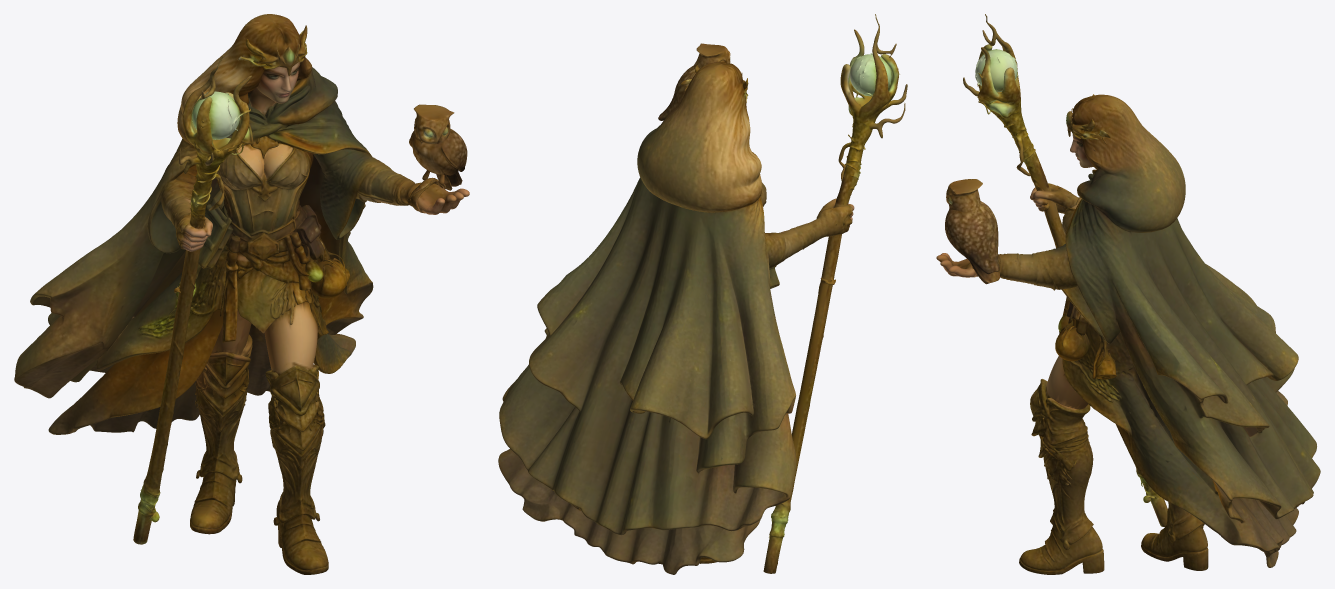
File: druid_full_female_01.glb
3 views of the same model, side by side, from view 1: azimuth 30°, elevation 25°; view 2: azimuth 150°, elevation 25°; view 3: azimuth 270°, elevation 25° (orthographic). The views are drawn at different scales.
Visible parts, largest first — view 1: material; view 2: material; view 3: material.
Boxes of the visible parts, x1,y1,x2,y2 form: material: [14, 14, 469, 574]; material: [498, 14, 907, 574]; material: [936, 14, 1320, 574].
Bounding box in the file's own units: 0.6352 × 1 × 0.6939.
Materials: 1 (1 with a texture image).
